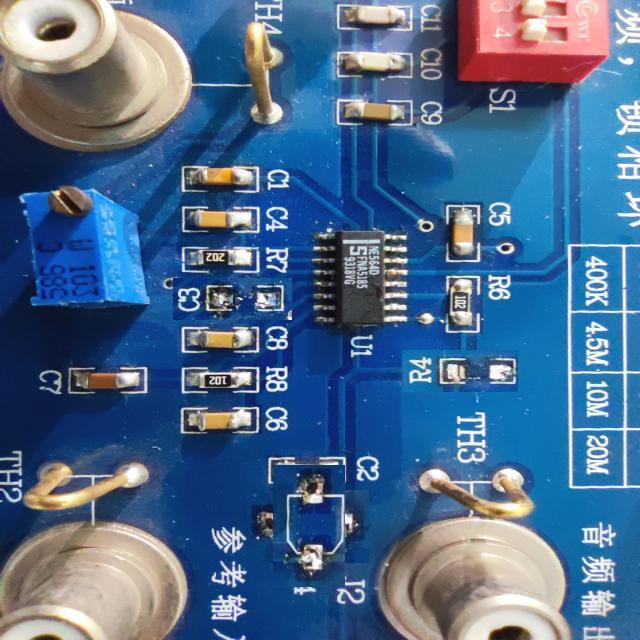miss_welding: (260, 478, 357, 575), (174, 278, 294, 320), (401, 349, 518, 392)
